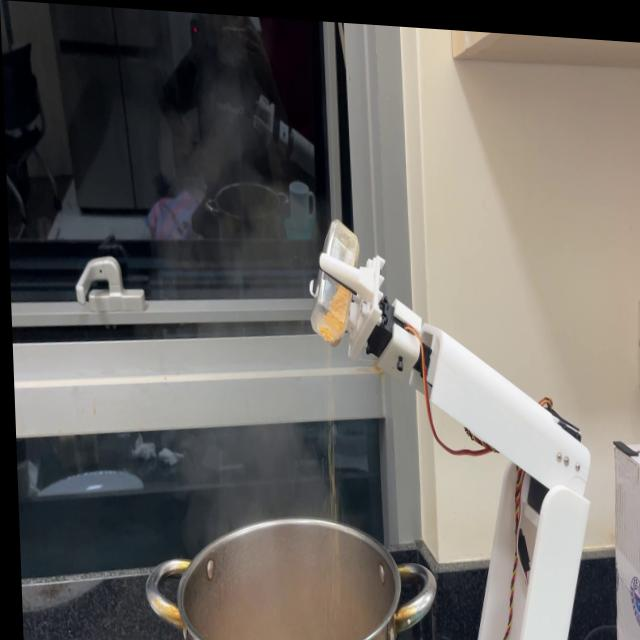cooking_pot: (140, 529, 447, 640)
garlic_powder: (308, 277, 349, 351)
